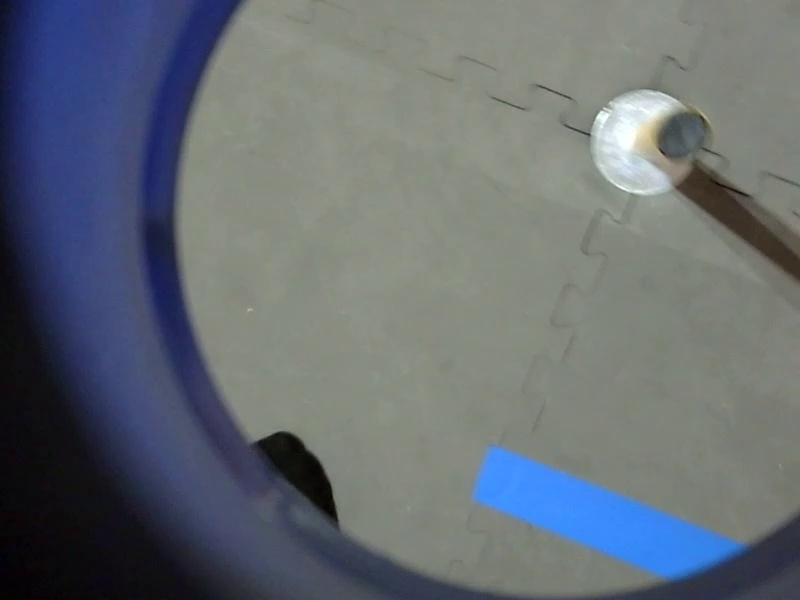tip: (526, 163, 636, 277)
